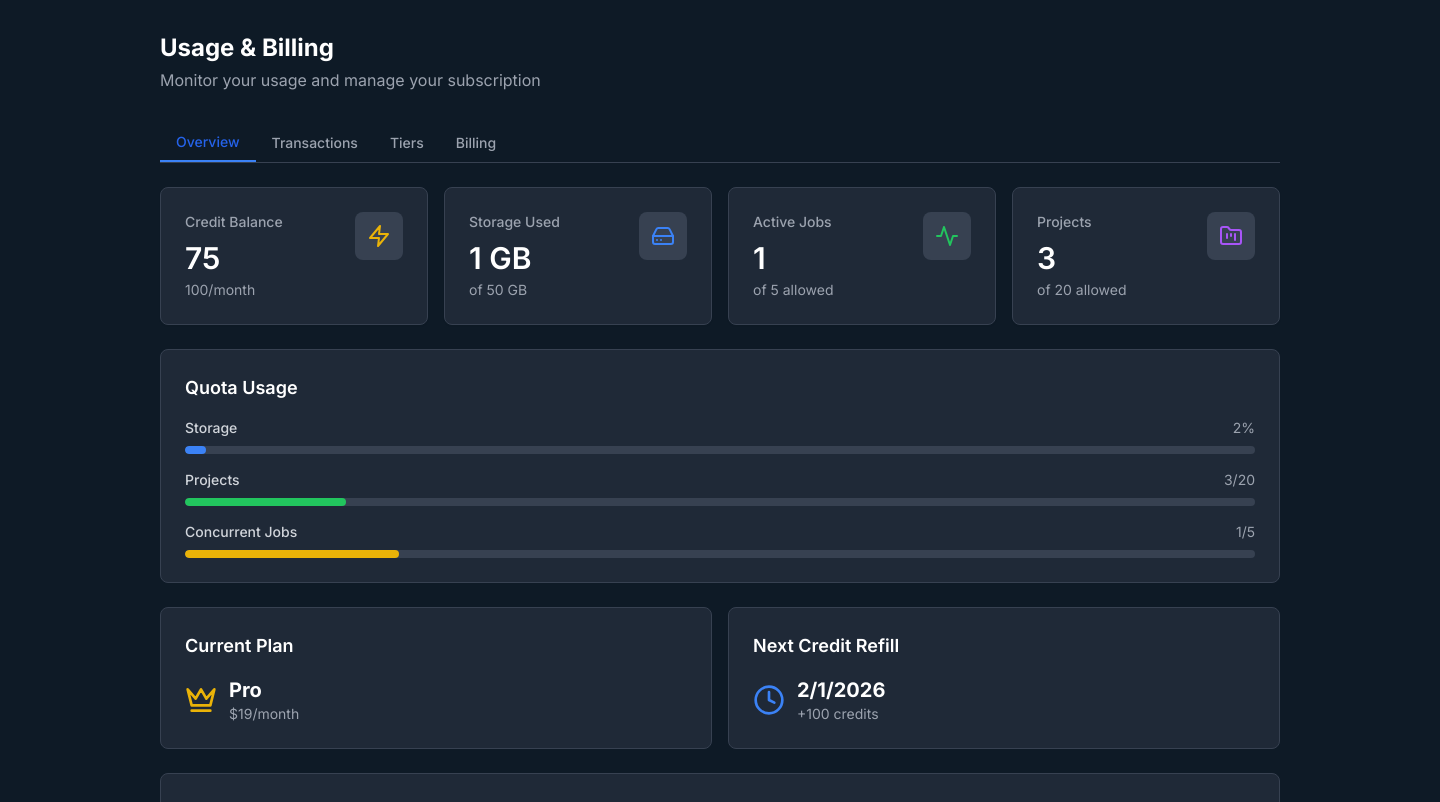
Test: UsageBillingPage › Tabs Navigation › switches to billing tab
Expected: the button "Overview" is shown, [160, 124, 256, 162]
Click the button "Billing".
click(476, 143)  # box [440, 124, 512, 162]
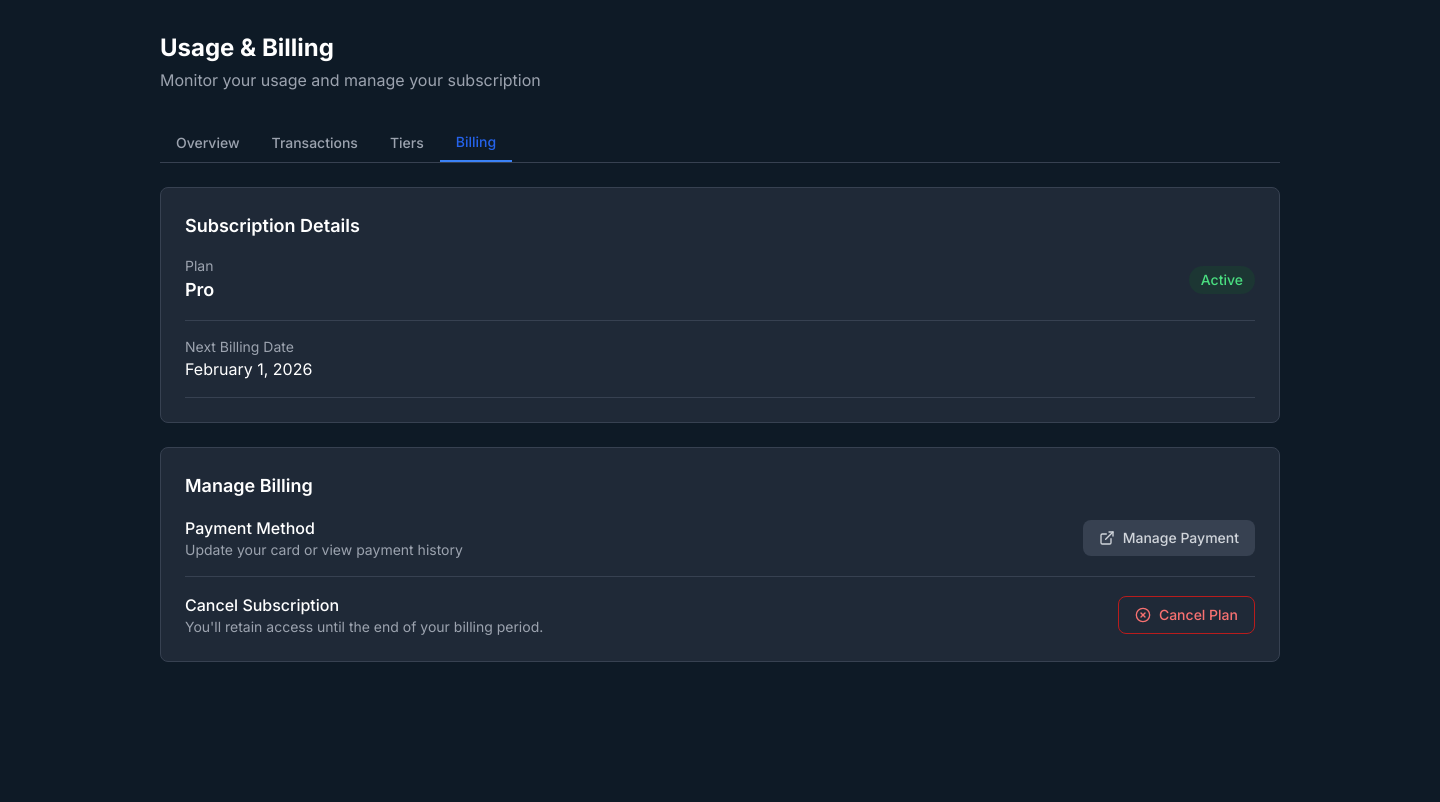
Expected: the heading "Subscription Details" is shown, [185, 215, 360, 236]
Expected: the heading "Manage Billing" is shown, [185, 475, 313, 496]
